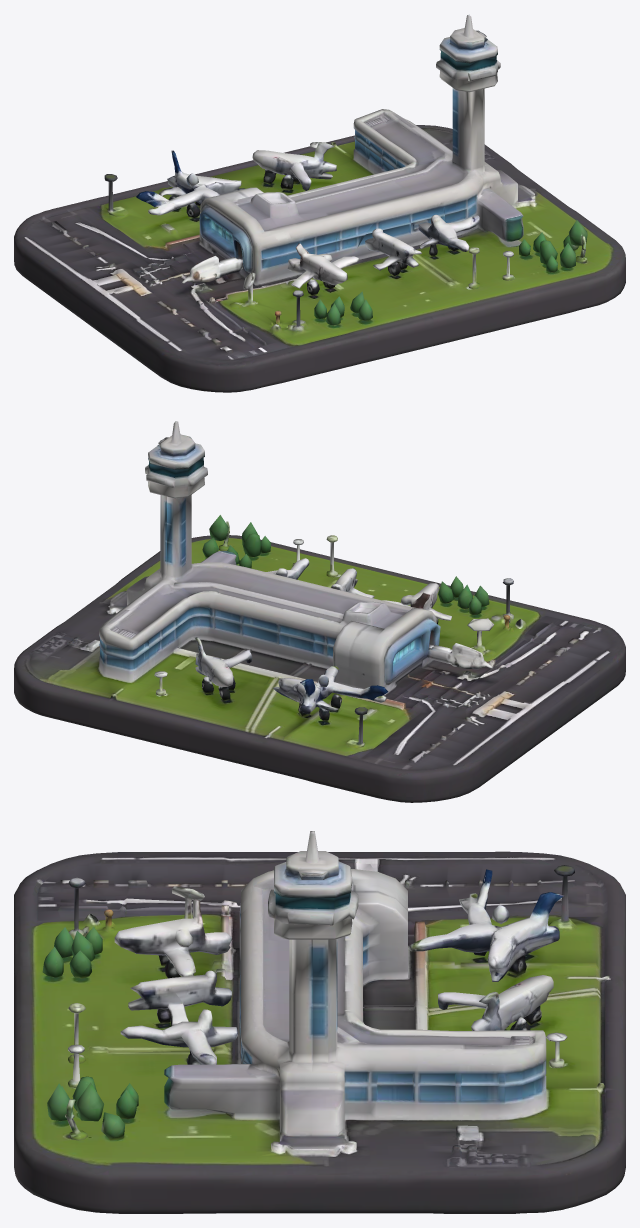
File: haneda.glb
3 views of the same model, one above another, from view 1: azimuth 30°, elevation 25°; view 2: azimuth 150°, elevation 25°; view 3: azimuth 270°, elevation 25° (orthographic). The views are drawn at different scales.
Parts seen in each view (by area): view 1: tripo_node_92fbd713-5f7b-48b4-9a0a-f1f232308ecf; view 2: tripo_node_92fbd713-5f7b-48b4-9a0a-f1f232308ecf; view 3: tripo_node_92fbd713-5f7b-48b4-9a0a-f1f232308ecf.
Boxes of the visible parts, x1=… form: tripo_node_92fbd713-5f7b-48b4-9a0a-f1f232308ecf: x1=14, y1=14, x2=625, y2=392; tripo_node_92fbd713-5f7b-48b4-9a0a-f1f232308ecf: x1=14, y1=421, x2=625, y2=802; tripo_node_92fbd713-5f7b-48b4-9a0a-f1f232308ecf: x1=14, y1=831, x2=625, y2=1213.
Size of the model in its own units: 0.9779 by 0.4574 by 0.7789.
1 material, 1 textured.
